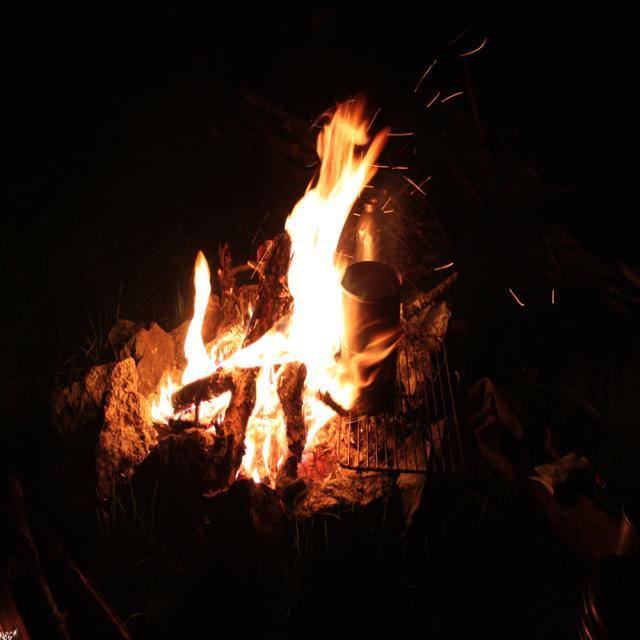Fire: (140, 249, 380, 496), (274, 100, 402, 312)
